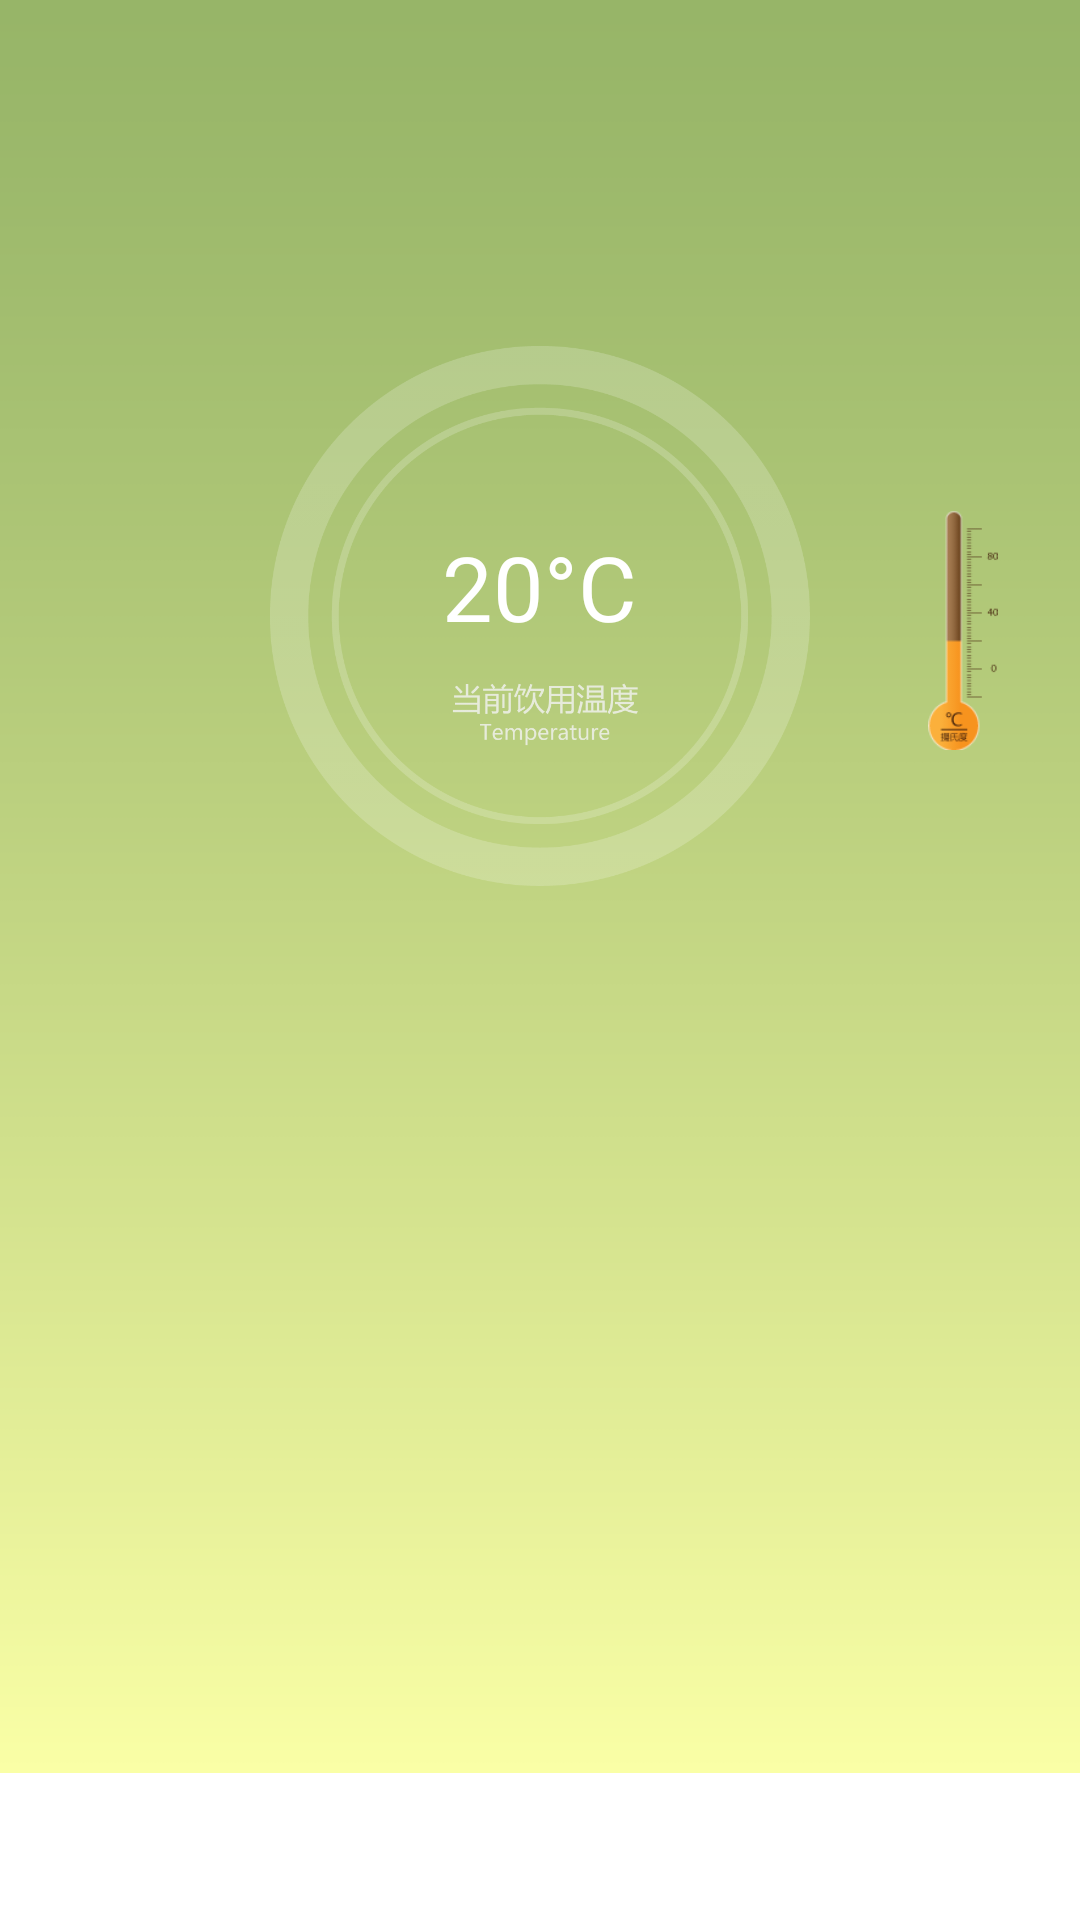

Screen size 1080w x 1920h. Icon name, then its box in pixels as (x1, y1, x2, y2):
tempernum: (928, 511, 998, 750)
